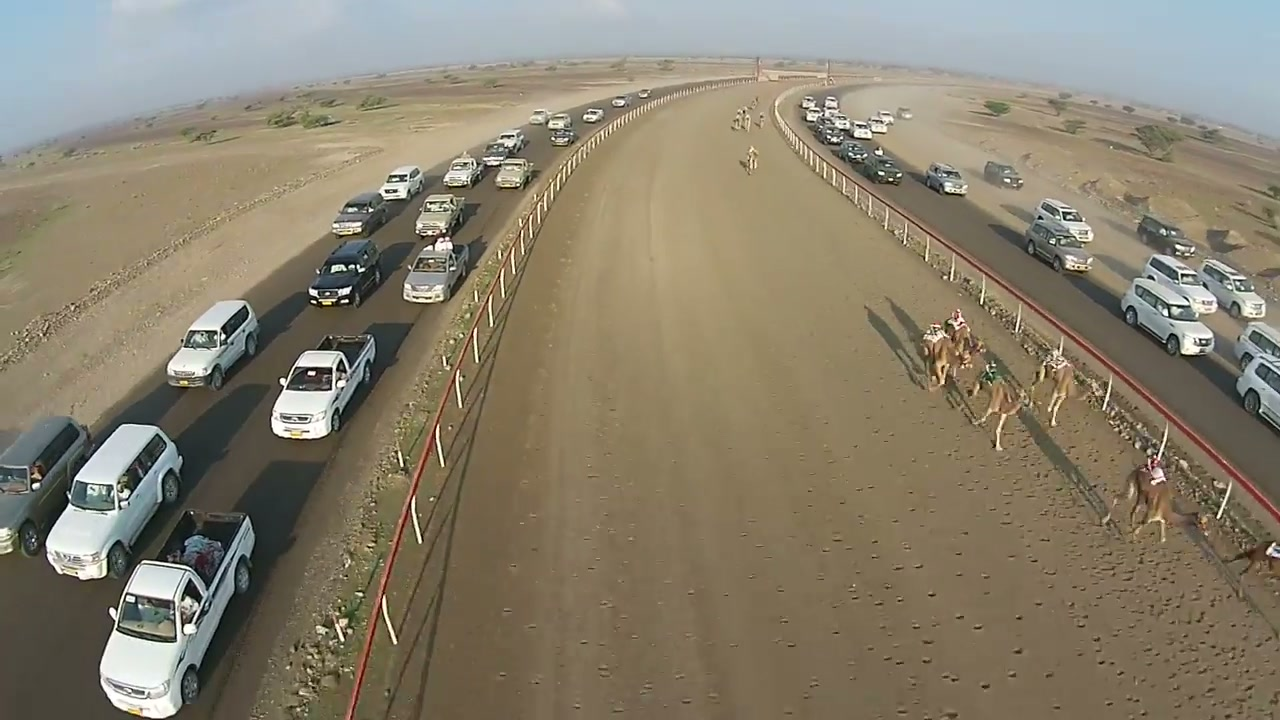animal_foot_print: (855, 420, 1271, 709)
